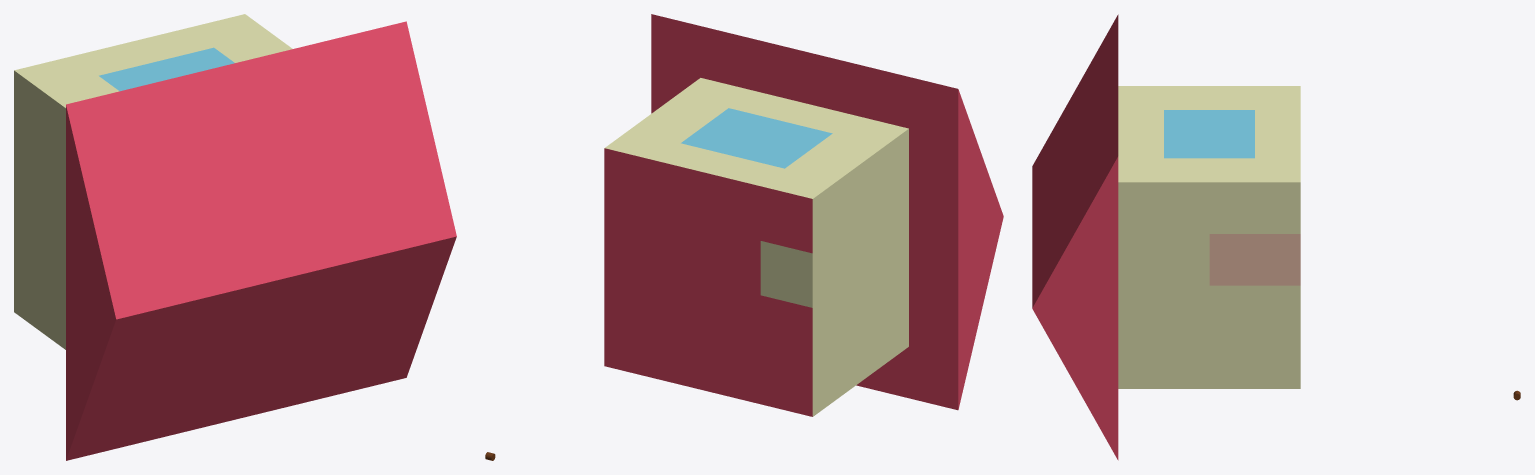
The model's file is 5_house_model.fbx.
The picture shows the model from 3 angles, left to right: view 1: azimuth 30°, elevation 25°; view 2: azimuth 150°, elevation 25°; view 3: azimuth 270°, elevation 25°; orthographic projection. The views are drawn at different scales.
Visible parts, largest first — view 1: 平面; view 2: 平面; view 3: 平面.
Boxes of the visible parts, bbox=[...] form: 平面: bbox=[14, 14, 456, 460]; 平面: bbox=[604, 14, 1003, 416]; 平面: bbox=[1032, 14, 1300, 460].
Bounding box in the file's own units: 134 × 134 × 195.
